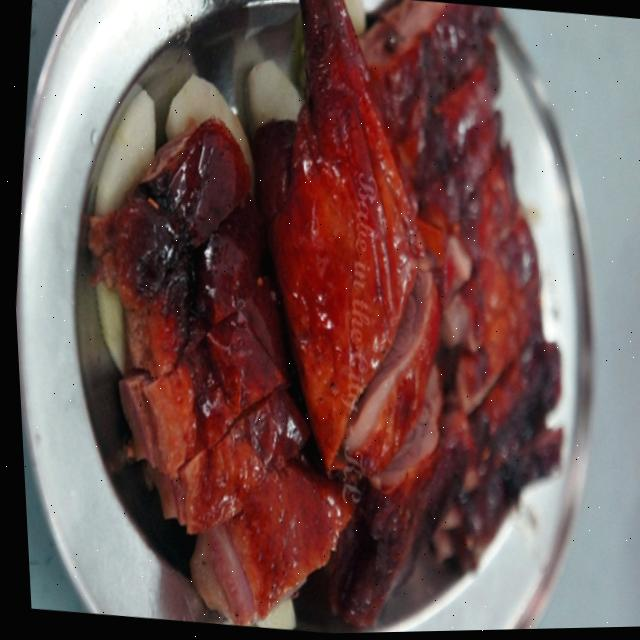烧串烤肉: (16, 0, 633, 640)
